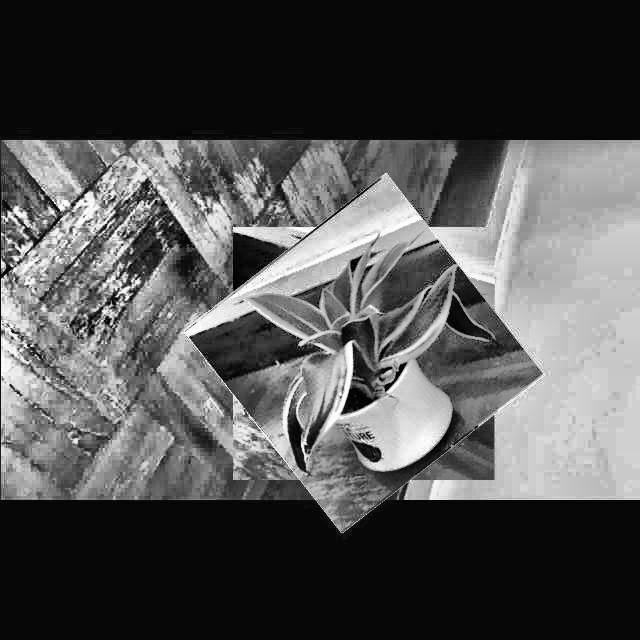plants: (209, 199, 518, 508)
